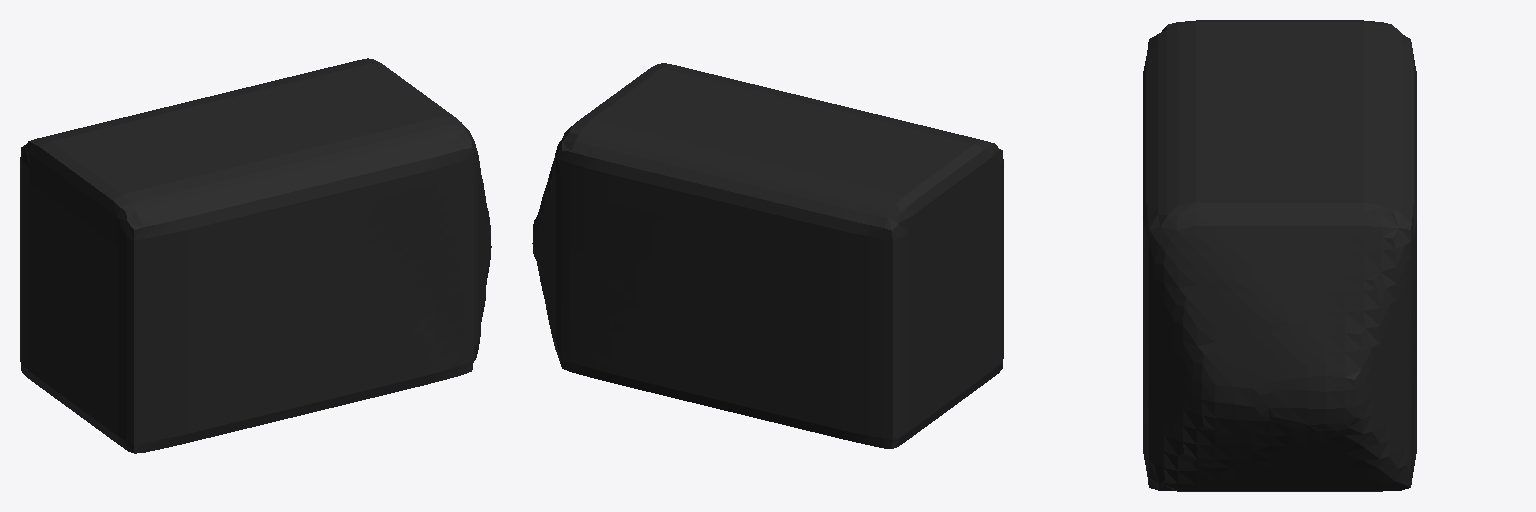
The robot description file, URDF, robot "allegro_hand_right":
<?xml version="1.0" ?>
<!-- =================================================================================== -->
<!-- |    This document was autogenerated by xacro from allegro_hand_description_right.xacro | -->
<!-- |    EDITING THIS FILE BY HAND IS NOT RECOMMENDED                                 | -->
<!-- =================================================================================== -->
<robot name="allegro_hand_right" xmlns:xacro="http://www.ros.org/wiki/xacro">
  <!--
rosrun xacro xacro.py allegro_hand_description_right.urdf.xacro > allegro_hand_description_right.urdf
roslaunch launchers/fuerte/allegro_hand_jgui_right_virtual.launch
-->
  <!-- ======================== BASE PARAMS ========================= -->
  <!-- ======================== FINGER PARAMS ======================== -->
  <!-- full height from joint to tip. when used,
the radius of the finger tip sphere will be subtracted
and one fixed link will be added for the tip. -->
  <!--0.0435,   0.044981-->
  <!--0.002298-->
  <!--0.002298-->
  <!-- ========================= THUMB PARAMS ========================= -->
  <!-- ========================= LIMITS ========================= -->
  <!-- ============================================================================= -->
  <!-- ============================================================================= -->
  <!-- ============================================================================= -->
  <!-- BASE -->
  <link name="base_link">
    <visual>
      <geometry>
        <mesh filename="./meshes/base_link.STL"/>
      </geometry>
      <!-- LEFT -->
      <!-- <origin rpy="${-90*DEG2RAD} 0 0" xyz="0 0 0 "/> -->
      <!-- RIGHT -->
      <origin rpy="0 0 0" xyz="0 0 0 "/>
      <material name="black">
        <color rgba="0.2 0.2 0.2 1"/>
      </material>
    </visual>
    <collision>
      <origin rpy="0 0 0" xyz="-0.009300 0 -0.0475"/>
      <geometry>
        <box size="0.0408 0.1130 0.095"/>
      </geometry>
    </collision>
  </link>
  <!-- ============================================================================= -->
  <!-- FINGERS -->
  <!-- RIGHT HAND due to which finger is number 0 -->
  <!-- for LEFT HAND switch the sign of the **offset_origin_y** and **finger_angle_r** parameters-->
  <link name="link_0.0">
    <visual>
      <geometry>
        <mesh filename="./meshes/link_0.0.STL"/>
      </geometry>
      <material name="black"/>
    </visual>
    <collision>
      <geometry>
        <box size="0.0196 0.0275 0.0164"/>
      </geometry>
      <origin rpy="0 0 0" xyz="0 0 0.0082"/>
    </collision>
  </link>
  <joint name="joint_0.0" type="revolute">
    <axis xyz="0 0 1"/>
    <limit effort="0" lower="-0.47" upper="0.47" velocity="0"/>
    <parent link="base_link"/>
    <child link="link_0.0"/>
    <origin rpy="-0.08726646255 0 0" xyz="0 0.0435 -0.001542"/>
  </joint>
  <link name="link_1.0">
    <visual>
      <geometry>
        <mesh filename="./meshes/link_1.0.STL"/>
      </geometry>
      <material name="black"/>
    </visual>
    <collision>
      <geometry>
        <box size="0.0196 0.0275 0.054"/>
      </geometry>
      <origin rpy="0 0 0" xyz="0 0 0.027"/>
    </collision>
  </link>
  <joint name="joint_1.0" type="revolute">
    <limit effort="0" lower="-0.196" upper="1.61" velocity="0"/>
    <axis xyz="0 1 0"/>
    <parent link="link_0.0"/>
    <child link="link_1.0"/>
    <origin xyz="0 0 0.0164"/>
  </joint>
  <link name="link_2.0">
    <visual>
      <geometry>
        <mesh filename="./meshes/link_2.0.STL"/>
      </geometry>
      <material name="black"/>
    </visual>
    <collision>
      <geometry>
        <box size="0.0196 0.0275 0.0384"/>
      </geometry>
      <origin rpy="0 0 0" xyz="0 0 0.0192"/>
    </collision>
  </link>
  <joint name="joint_2.0" type="revolute">
    <axis xyz="0 1 0"/>
    <limit effort="0" lower="-0.174" upper="1.709" velocity="0"/>
    <parent link="link_1.0"/>
    <child link="link_2.0"/>
    <origin xyz="0 0 0.054"/>
  </joint>
  <link name="link_3.0">
    <visual>
      <geometry>
        <mesh filename="./meshes/link_3.0.STL"/>
      </geometry>
      <material name="black"/>
    </visual>
    <collision>
      <geometry>
        <box size="0.0196 0.0275 0.0267"/>
      </geometry>
      <origin rpy="0 0 0" xyz="0 0 0.01335"/>
    </collision>
  </link>
  <joint name="joint_3.0" type="revolute">
    <axis xyz="0 1 0"/>
    <limit effort="0" lower="-0.227" upper="1.618" velocity="0"/>
    <parent link="link_2.0"/>
    <child link="link_3.0"/>
    <origin xyz="0 0 0.0384"/>
  </joint>
  <link name="link_3.0_tip">
    <visual>
      <geometry>
        <mesh filename="./meshes/link_3.0_tip.STL"/>
      </geometry>
      <material name="white">
        <color rgba=".9 .9 .9 1"/>
      </material>
    </visual>
    <collision>
      <geometry>
        <sphere radius="0.012"/>
      </geometry>
    </collision>
  </link>
  <joint name="joint_3.0_tip" type="fixed">
    <parent link="link_3.0"/>
    <child link="link_3.0_tip"/>
    <origin rpy="0 0 0" xyz="0 0 0.0267"/>
  </joint>
  <link name="link_4.0">
    <visual>
      <geometry>
        <mesh filename="./meshes/link_0.0.STL"/>
      </geometry>
      <material name="black"/>
    </visual>
    <collision>
      <geometry>
        <box size="0.0196 0.0275 0.0164"/>
      </geometry>
      <origin rpy="0 0 0" xyz="0 0 0.0082"/>
    </collision>
  </link>
  <joint name="joint_4.0" type="revolute">
    <axis xyz="0 0 1"/>
    <limit effort="0" lower="-0.47" upper="0.47" velocity="0"/>
    <parent link="base_link"/>
    <child link="link_4.0"/>
    <origin rpy="0.0 0 0" xyz="0 0 0.0007"/>
  </joint>
  <link name="link_5.0">
    <visual>
      <geometry>
        <mesh filename="./meshes/link_1.0.STL"/>
      </geometry>
      <material name="black"/>
    </visual>
    <collision>
      <geometry>
        <box size="0.0196 0.0275 0.054"/>
      </geometry>
      <origin rpy="0 0 0" xyz="0 0 0.027"/>
    </collision>
  </link>
  <joint name="joint_5.0" type="revolute">
    <limit effort="0" lower="-0.196" upper="1.61" velocity="0"/>
    <axis xyz="0 1 0"/>
    <parent link="link_4.0"/>
    <child link="link_5.0"/>
    <origin xyz="0 0 0.0164"/>
  </joint>
  <link name="link_6.0">
    <visual>
      <geometry>
        <mesh filename="./meshes/link_2.0.STL"/>
      </geometry>
      <material name="black"/>
    </visual>
    <collision>
      <geometry>
        <box size="0.0196 0.0275 0.0384"/>
      </geometry>
      <origin rpy="0 0 0" xyz="0 0 0.0192"/>
    </collision>
  </link>
  <joint name="joint_6.0" type="revolute">
    <axis xyz="0 1 0"/>
    <limit effort="0" lower="-0.174" upper="1.709" velocity="0"/>
    <parent link="link_5.0"/>
    <child link="link_6.0"/>
    <origin xyz="0 0 0.054"/>
  </joint>
  <link name="link_7.0">
    <visual>
      <geometry>
        <mesh filename="./meshes/link_3.0.STL"/>
      </geometry>
      <material name="black"/>
    </visual>
    <collision>
      <geometry>
        <box size="0.0196 0.0275 0.0267"/>
      </geometry>
      <origin rpy="0 0 0" xyz="0 0 0.01335"/>
    </collision>
  </link>
  <joint name="joint_7.0" type="revolute">
    <axis xyz="0 1 0"/>
    <limit effort="0" lower="-0.227" upper="1.618" velocity="0"/>
    <parent link="link_6.0"/>
    <child link="link_7.0"/>
    <origin xyz="0 0 0.0384"/>
  </joint>
  <link name="link_7.0_tip">
    <visual>
      <geometry>
        <mesh filename="./meshes/link_3.0_tip.STL"/>
      </geometry>
      <material name="white">
        <color rgba=".9 .9 .9 1"/>
      </material>
    </visual>
    <collision>
      <geometry>
        <sphere radius="0.012"/>
      </geometry>
    </collision>
  </link>
  <joint name="joint_7.0_tip" type="fixed">
    <parent link="link_7.0"/>
    <child link="link_7.0_tip"/>
    <origin rpy="0 0 0" xyz="0 0 0.0267"/>
  </joint>
  <link name="link_8.0">
    <visual>
      <geometry>
        <mesh filename="./meshes/link_0.0.STL"/>
      </geometry>
      <material name="black"/>
    </visual>
    <collision>
      <geometry>
        <box size="0.0196 0.0275 0.0164"/>
      </geometry>
      <origin rpy="0 0 0" xyz="0 0 0.0082"/>
    </collision>
  </link>
  <joint name="joint_8.0" type="revolute">
    <axis xyz="0 0 1"/>
    <limit effort="0" lower="-0.47" upper="0.47" velocity="0"/>
    <parent link="base_link"/>
    <child link="link_8.0"/>
    <origin rpy="0.08726646255 0 0" xyz="0 -0.0435 -0.001542"/>
  </joint>
  <link name="link_9.0">
    <visual>
      <geometry>
        <mesh filename="./meshes/link_1.0.STL"/>
      </geometry>
      <material name="black"/>
    </visual>
    <collision>
      <geometry>
        <box size="0.0196 0.0275 0.054"/>
      </geometry>
      <origin rpy="0 0 0" xyz="0 0 0.027"/>
    </collision>
  </link>
  <joint name="joint_9.0" type="revolute">
    <limit effort="0" lower="-0.196" upper="1.61" velocity="0"/>
    <axis xyz="0 1 0"/>
    <parent link="link_8.0"/>
    <child link="link_9.0"/>
    <origin xyz="0 0 0.0164"/>
  </joint>
  <link name="link_10.0">
    <visual>
      <geometry>
        <mesh filename="./meshes/link_2.0.STL"/>
      </geometry>
      <material name="black"/>
    </visual>
    <collision>
      <geometry>
        <box size="0.0196 0.0275 0.0384"/>
      </geometry>
      <origin rpy="0 0 0" xyz="0 0 0.0192"/>
    </collision>
  </link>
  <joint name="joint_10.0" type="revolute">
    <axis xyz="0 1 0"/>
    <limit effort="0" lower="-0.174" upper="1.709" velocity="0"/>
    <parent link="link_9.0"/>
    <child link="link_10.0"/>
    <origin xyz="0 0 0.054"/>
  </joint>
  <link name="link_11.0">
    <visual>
      <geometry>
        <mesh filename="./meshes/link_3.0.STL"/>
      </geometry>
      <material name="black"/>
    </visual>
    <collision>
      <geometry>
        <box size="0.0196 0.0275 0.0267"/>
      </geometry>
      <origin rpy="0 0 0" xyz="0 0 0.01335"/>
    </collision>
  </link>
  <joint name="joint_11.0" type="revolute">
    <axis xyz="0 1 0"/>
    <limit effort="0" lower="-0.227" upper="1.618" velocity="0"/>
    <parent link="link_10.0"/>
    <child link="link_11.0"/>
    <origin xyz="0 0 0.0384"/>
  </joint>
  <link name="link_11.0_tip">
    <visual>
      <geometry>
        <mesh filename="./meshes/link_3.0_tip.STL"/>
      </geometry>
      <material name="white">
        <color rgba=".9 .9 .9 1"/>
      </material>
    </visual>
    <collision>
      <geometry>
        <sphere radius="0.012"/>
      </geometry>
    </collision>
  </link>
  <joint name="joint_11.0_tip" type="fixed">
    <parent link="link_11.0"/>
    <child link="link_11.0_tip"/>
    <origin rpy="0 0 0" xyz="0 0 0.0267"/>
  </joint>
  <!-- THUMB -->
  <link name="link_12.0">
    <visual>
      <geometry>
        <!-- RIGHT -->
        <mesh filename="./meshes/link_12.0_right.STL"/>
        <!-- LEFT -->
        <!-- <mesh filename="./meshes/link_12.0_left.STL" /> -->
      </geometry>
      <material name="black">
        <color rgba=".2 .2 .2 1"/>
      </material>
    </visual>
    <collision>
      <geometry>
        <box size="0.0358 0.034 0.0455"/>
      </geometry>
      <!-- RIGHT -->
      <origin rpy="0 0 0" xyz="-0.0179 0.009 0.0145"/>
      <!-- LEFT -->
      <!-- <origin rpy="0 0 0" xyz="${-0.0358/2+0.0} ${-.018/2} ${.029/2}"/> -->
    </collision>
  </link>
  <joint name="joint_12.0" type="revolute">
    <axis xyz="-1 0 0"/>
    <limit effort="0" lower="0.263" upper="1.396" velocity="0"/>
    <parent link="base_link"/>
    <child link="link_12.0"/>
    <origin rpy="0 -1.65806278845 -1.5707963259" xyz="-0.0182 0.019333 -0.045987"/>
  </joint>
  <link name="link_13.0">
    <visual>
      <geometry>
        <mesh filename="./meshes/link_13.0.STL"/>
      </geometry>
      <material name="black">
        <color rgba=".2 .2 .2 1"/>
      </material>
    </visual>
    <collision>
      <geometry>
        <box size="0.0196 0.0275 0.0177"/>
      </geometry>
      <origin rpy="0 0 0" xyz="0 0 0.00885"/>
    </collision>
  </link>
  <joint name="joint_13.0" type="revolute">
    <axis xyz="0 0 1"/>
    <limit effort="0" lower="-0.105" upper="1.163" velocity="0"/>
    <parent link="link_12.0"/>
    <child link="link_13.0"/>
    <!-- RIGHT -->
    <origin xyz="-0.027 0.005 0.0399"/>
    <!-- LEFT -->
    <!-- <origin xyz="-0.027 -0.005 0.0399"/> -->
  </joint>
  <link name="link_14.0">
    <visual>
      <geometry>
        <mesh filename="./meshes/link_14.0.STL"/>
      </geometry>
      <material name="black">
		  	</material>
    </visual>
    <collision>
      <geometry>
        <box size="0.0196 0.0275 0.0514"/>
      </geometry>
      <origin rpy="0 0 0" xyz="0 0 0.0257"/>
    </collision>
  </link>
  <joint name="joint_14.0" type="revolute">
    <axis xyz="0 1 0"/>
    <limit effort="0" lower="-0.189" upper="1.644" velocity="0"/>
    <parent link="link_13.0"/>
    <child link="link_14.0"/>
    <origin xyz="0 0 0.0177"/>
  </joint>
  <link name="link_15.0">
    <visual>
      <geometry>
        <mesh filename="./meshes/link_15.0.STL"/>
      </geometry>
      <material name="black">
    	</material>
    </visual>
    <collision>
      <geometry>
        <box size="0.0196 0.0275 0.0423"/>
      </geometry>
      <origin rpy="0 0 0" xyz="0 0 0.02115"/>
    </collision>
  </link>
  <joint name="joint_15.0" type="revolute">
    <axis xyz="0 1 0"/>
    <limit effort="0" lower="-0.162" upper="1.719" velocity="0"/>
    <parent link="link_14.0"/>
    <child link="link_15.0"/>
    <origin xyz="0 0 0.0514"/>
  </joint>
  <link name="link_15.0_tip">
    <visual>
      <geometry>
        <mesh filename="./meshes/link_15.0_tip.STL"/>
      </geometry>
      <material name="white">
        <color rgba=".9 .9 .9 1"/>
      </material>
    </visual>
    <collision>
      <geometry>
        <sphere radius="0.012"/>
      </geometry>
      <origin rpy="0 0 0" xyz="0 0 0"/>
    </collision>
  </link>
  <joint name="joint_15.0_tip" type="fixed">
    <parent link="link_15.0"/>
    <child link="link_15.0_tip"/>
    <origin rpy="0 0 0" xyz="0 0 0.0423"/>
    <!--0.0267000000000005-->
  </joint>
  <!--
<xacro:thumb_left
	finger_num=			"3"
	offset_origin_x=	"-0.0182"
	offset_origin_y=	"-0.019333"
	offset_origin_z=	"-0.045987"


	finger_angle_r=		"${90*DEG2RAD}"
	finger_angle_p=		"-${95*DEG2RAD}"
	finger_angle_y=		"${90*DEG2RAD}"
/>
-->
  <!-- ============================================================================= -->
  <!-- ============================================================================= -->
  <!-- ============================================================================= -->
  <!-- THUMB MACRO -->
  <!-- END THUMB MACRO -->
  <!-- THREE FINGER MACRO -->
  <!-- [[END]] THREE FINGER MACRO -->
</robot>

--- Facts derived from the render (not from the file) ---
Views: 3 orthographic renders of the robot side by side, from view 1: azimuth 30°, elevation 25°; view 2: azimuth 150°, elevation 25°; view 3: azimuth 270°, elevation 25°.
Robot: allegro_hand_right — 21 links, 20 joints (16 revolute, 4 fixed); root link base_link; default pose: joints at zero except 1 at the middle of their limits (joint_12.0 = 0.8295).
Visible links, largest first — view 1: base_link; view 2: base_link; view 3: base_link.
Boxes of the visible links, x1=… form: base_link: x1=20, y1=58, x2=491, y2=453; base_link: x1=532, y1=63, x2=1003, y2=448; base_link: x1=1143, y1=20, x2=1416, y2=491.
Size in the robot's own frame: 0.1403 by 0.072 by 0.0825 metres.
Meshes: 11 distinct files referenced, 1 mesh visuals loaded (1 binary STL); not drawn: 20 (reference not matched to a file when rendering).